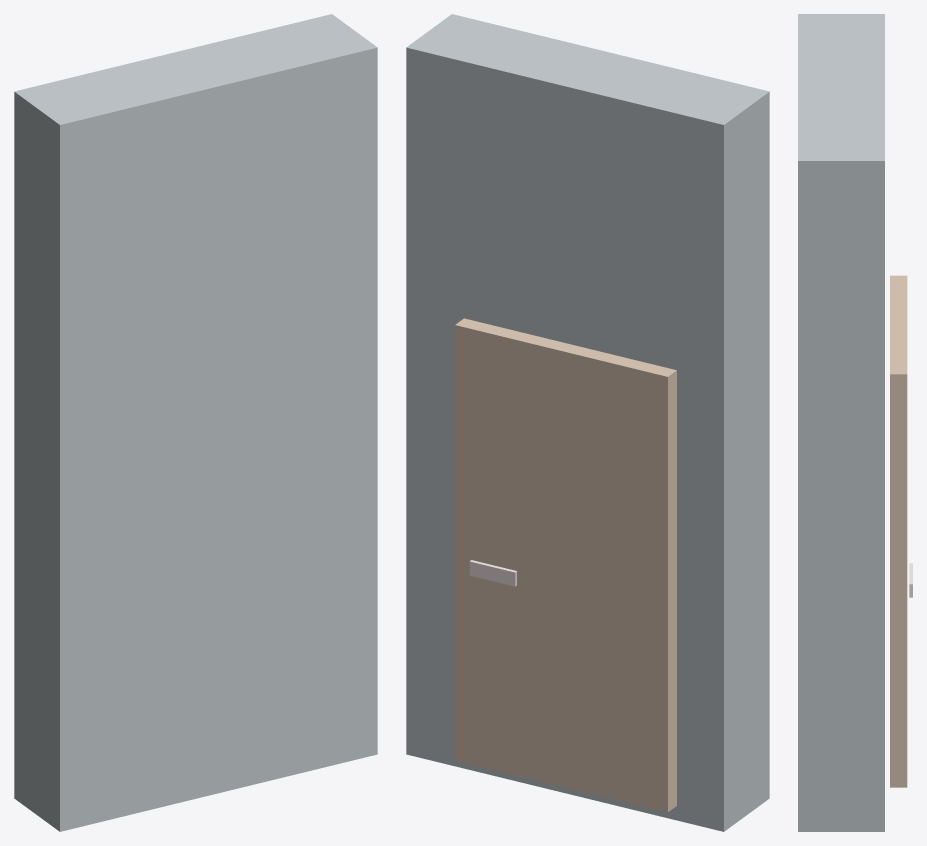
Rendered from wall segment with door.fbx.
3 renders of one model, left to right at view 1: azimuth 30°, elevation 25°; view 2: azimuth 150°, elevation 25°; view 3: azimuth 270°, elevation 25°, orthographic. The views are drawn at different scales.
Visible parts, largest first — view 1: Cube.005; view 2: Cube.005; view 3: Cube.005.
Part boxes in pixels (<box>): Cube.005: <box>14,14,377,831</box>; Cube.005: <box>406,14,769,831</box>; Cube.005: <box>798,14,912,831</box>.
Bounding box in the file's own units: 490 × 1042 × 162.
